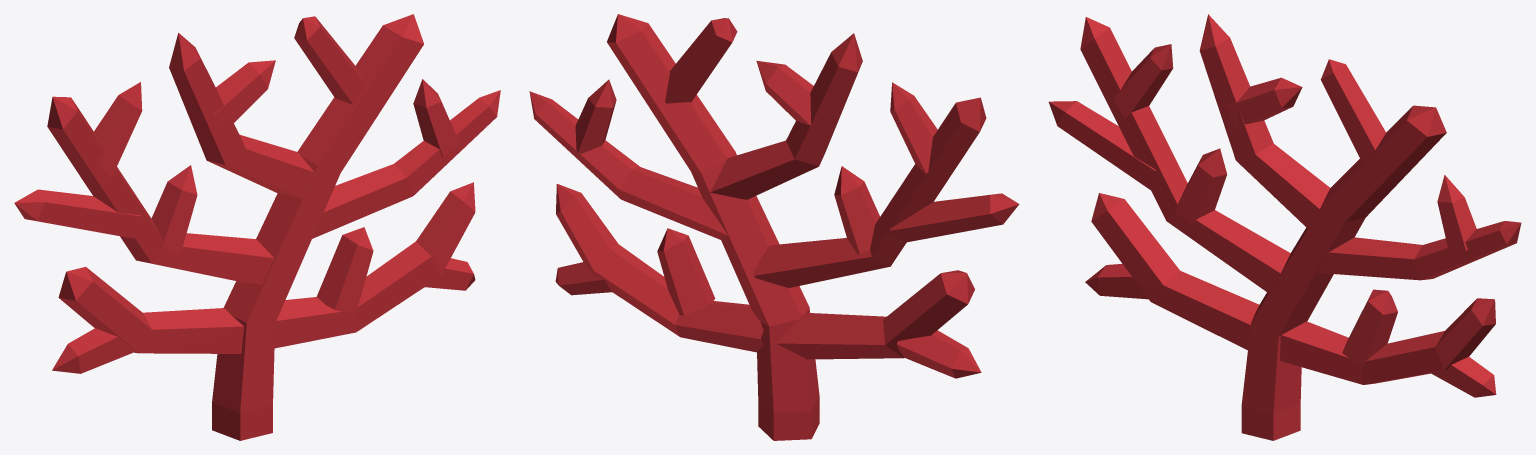
The model's file is coral_small_red.glb.
The picture shows the model from 3 angles, left to right: view 1: azimuth 30°, elevation 25°; view 2: azimuth 150°, elevation 25°; view 3: azimuth 330°, elevation 25°; orthographic projection. The views are drawn at different scales.
Visible parts, largest first — view 1: coral_small_red; view 2: coral_small_red; view 3: coral_small_red.
Part boxes in pixels (x1,y1,x2,y2): coral_small_red: (14, 14, 500, 440); coral_small_red: (529, 14, 1019, 440); coral_small_red: (1048, 14, 1521, 440).
Bounding box in the file's own units: 1.07 × 0.8644 × 0.1114.
1 material, 1 textured.
